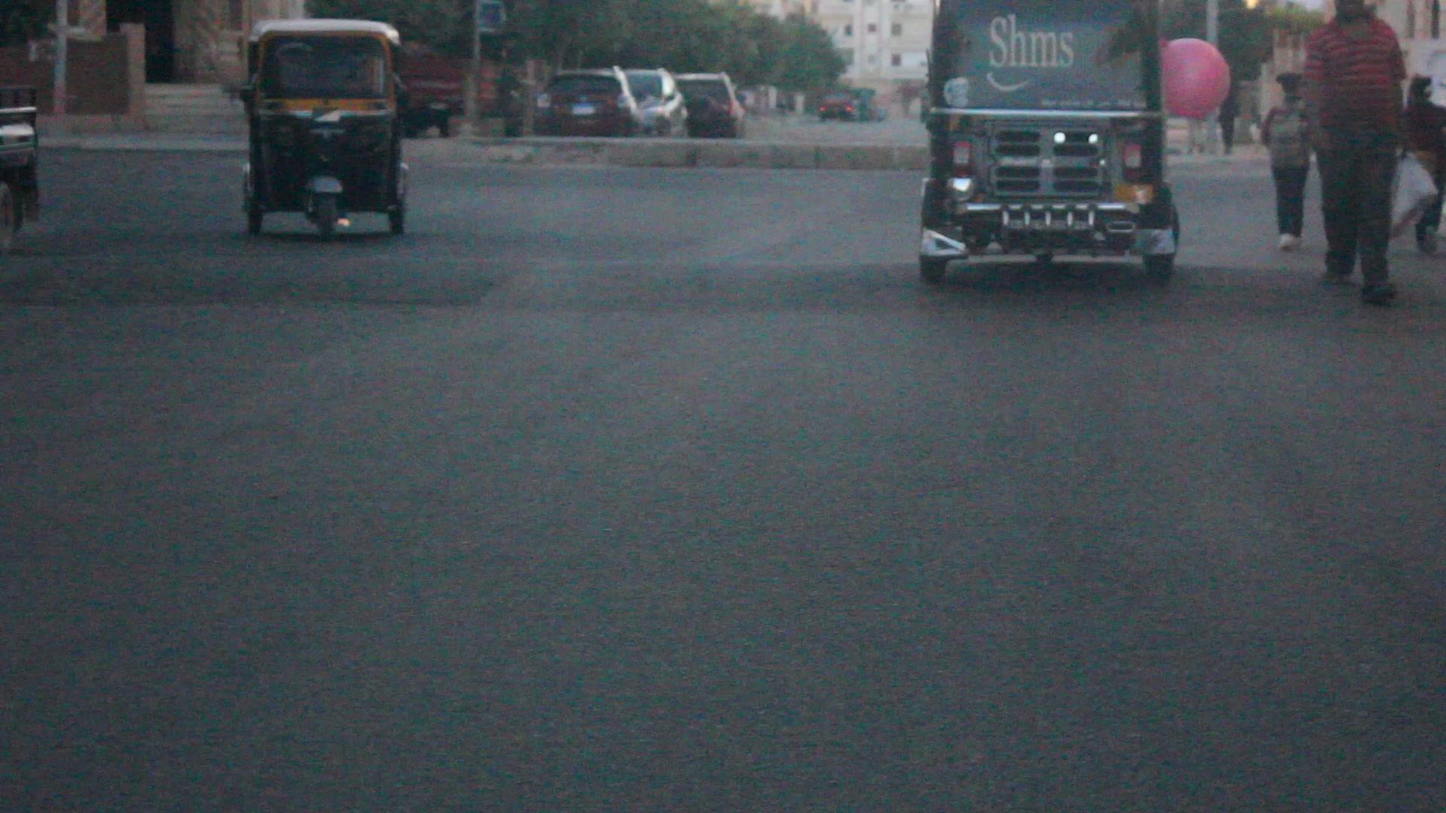Bump: (0, 241, 1446, 337)
